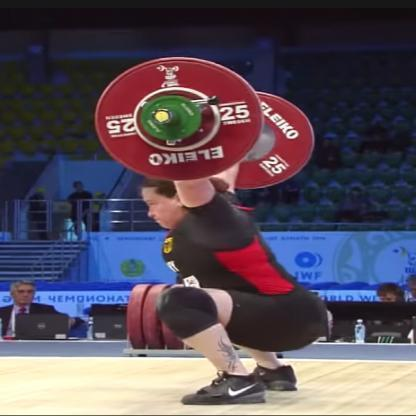barbell: (94, 55, 316, 191)
